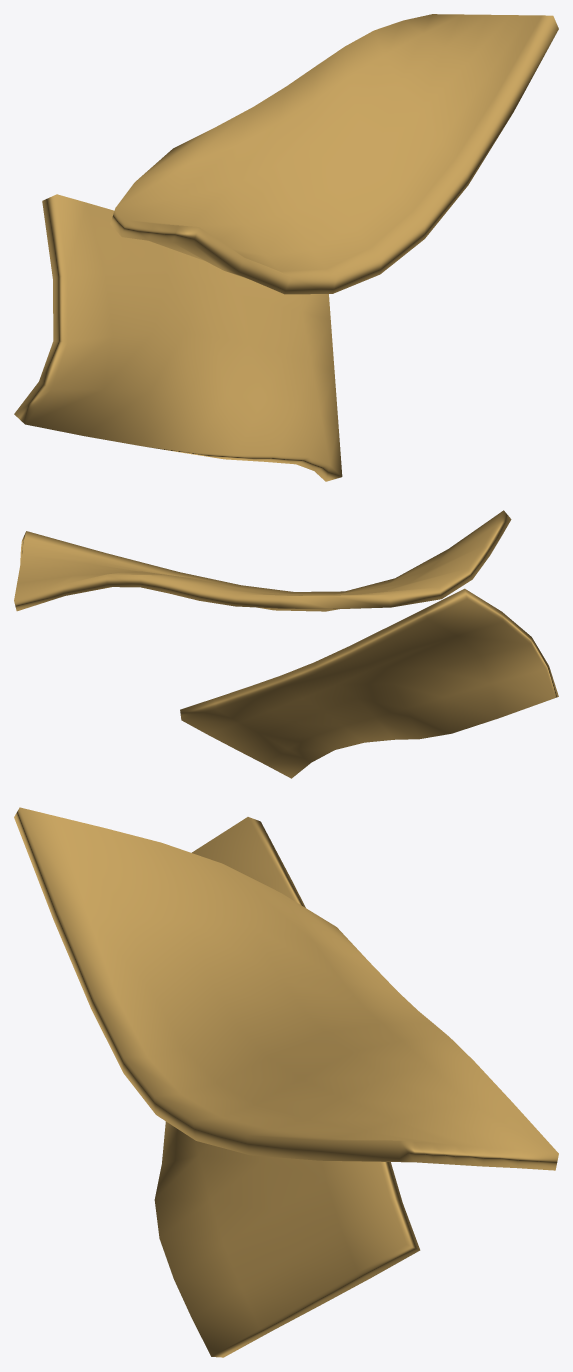
The picture shows the model from 3 angles, top to bottom: view 1: azimuth 30°, elevation 25°; view 2: azimuth 150°, elevation 25°; view 3: azimuth 270°, elevation 25°; orthographic projection. The views are drawn at different scales.
Parts seen in each view (by area): view 1: 左侧距跟骨间韧带; view 2: 左侧距跟骨间韧带; view 3: 左侧距跟骨间韧带.
Part boxes in pixels (<box>): 左侧距跟骨间韧带: <box>14,14,558,481</box>; 左侧距跟骨间韧带: <box>14,510,558,778</box>; 左侧距跟骨间韧带: <box>14,807,558,1357</box>.
Bounding box in the file's own units: 0.0309 × 0.0168 × 0.0193.
